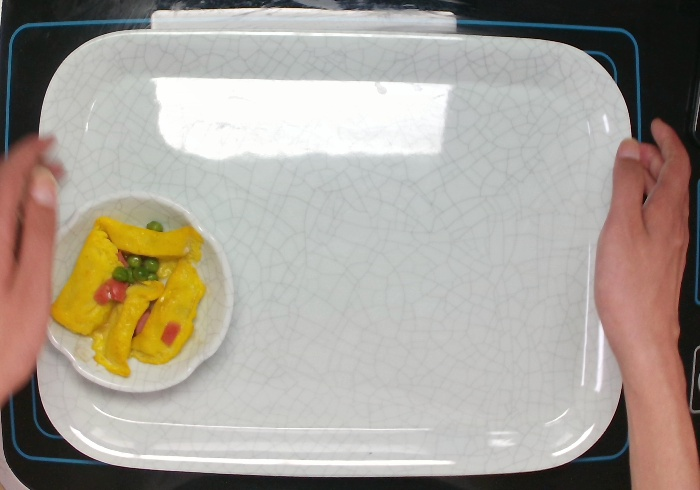JYsf-Ao_Yuan_Wan: (43, 190, 237, 395)
